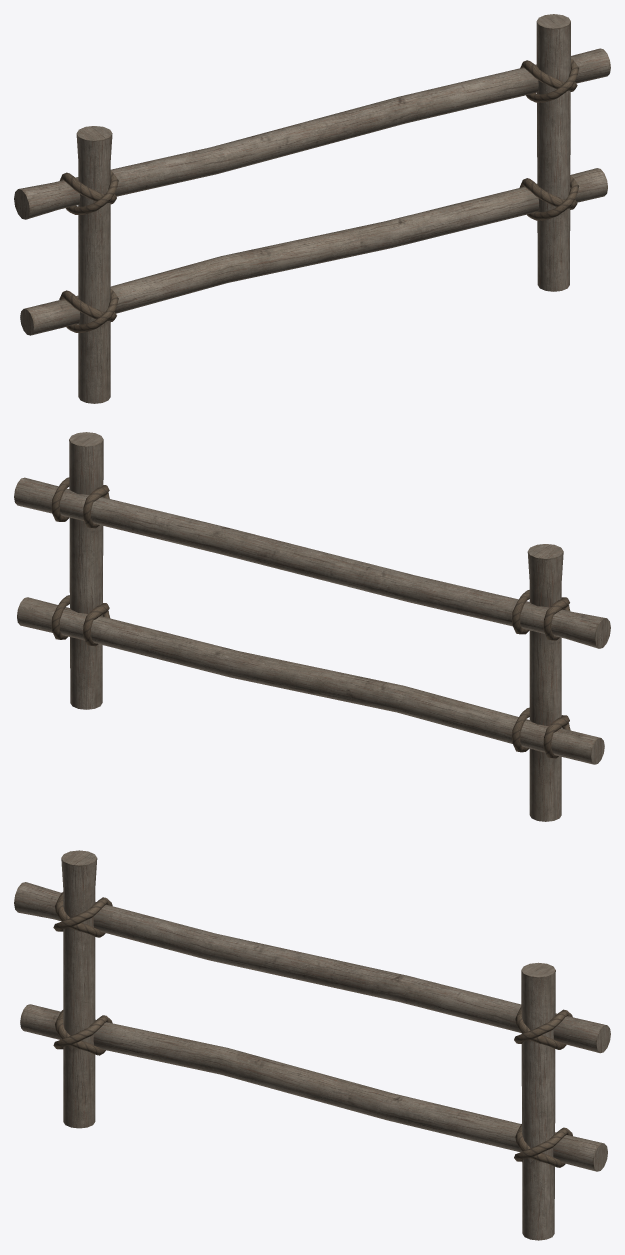
File: fence1.fbx
The picture shows the model from 3 angles, top to bottom: view 1: azimuth 30°, elevation 25°; view 2: azimuth 150°, elevation 25°; view 3: azimuth 330°, elevation 25°; orthographic projection.
Parts seen in each view (by area): view 1: fence1; view 2: fence1; view 3: fence1.
Part boxes in pixels (x1,y1,x2,y2): fence1: (14,14,610,403); fence1: (14,432,610,821); fence1: (14,850,610,1240).
Bounding box in the file's own units: 380 × 165 × 34.34.
